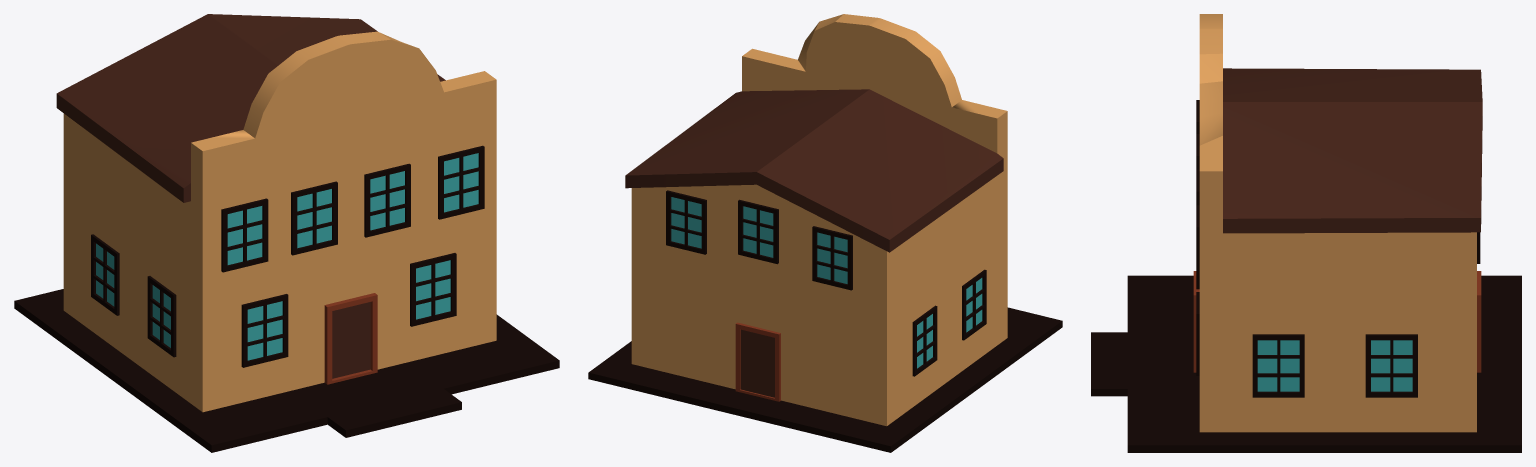
The model's file is pietrowy okragle na gorze.FBX.
The picture shows the model from 3 angles, left to right: view 1: azimuth 30°, elevation 25°; view 2: azimuth 150°, elevation 25°; view 3: azimuth 270°, elevation 25°; orthographic projection. The views are drawn at different scales.
Parts seen in each view (by area): view 1: Box458; view 2: Box458; view 3: Box458.
Part boxes in pixels (left/top/right/bottom): Box458: left=14, top=14, right=559, bottom=452; Box458: left=588, top=14, right=1062, bottom=452; Box458: left=1091, top=14, right=1521, bottom=452.
Bounding box in the file's own units: 107 × 99.85 × 115.
